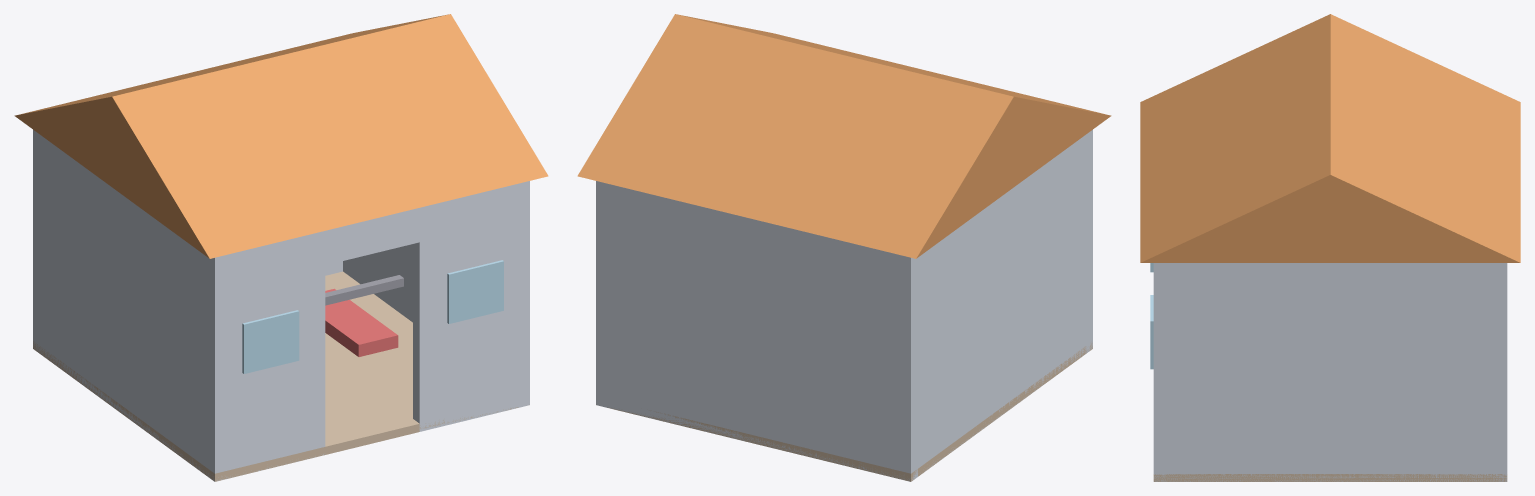
File: gimnasio.glb
3 views of the same model, side by side, from view 1: azimuth 30°, elevation 25°; view 2: azimuth 150°, elevation 25°; view 3: azimuth 270°, elevation 25° (orthographic). The views are drawn at different scales.
Parts seen in each view (by area): view 1: Techo, Pared_izq, Pared_del_a, Pared_del_b, Suelo, Pared_der, Pared_dintel, Ventana, Ventana.001, Banco, Pared_tras, Pesas; view 2: Techo, Pared_tras, Pared_izq, Suelo, Pared_der, Pared_del_a; view 3: Techo, Pared_der, Pared_tras, Suelo, Pared_del_b.
Boxes of the visible parts, left/top/right/bottom form: Techo: left=14, top=14, right=548, bottom=258; Pared_izq: left=33, top=130, right=226, bottom=481; Pared_del_a: left=208, top=231, right=325, bottom=480; Pared_del_b: left=413, top=181, right=529, bottom=431; Suelo: left=33, top=271, right=517, bottom=481; Pared_der: left=343, top=181, right=529, bottom=407; Pared_dintel: left=325, top=208, right=419, bottom=265; Ventana: left=242, top=310, right=299, bottom=373; Ventana.001: left=447, top=260, right=503, bottom=323; Banco: left=325, top=288, right=398, bottom=356; Pared_tras: left=33, top=130, right=342, bottom=348; Pesas: left=325, top=275, right=403, bottom=305; Techo: left=577, top=14, right=1111, bottom=258; Pared_tras: left=596, top=181, right=917, bottom=481; Pared_izq: left=899, top=130, right=1092, bottom=479; Suelo: left=608, top=343, right=1092, bottom=481; Pared_der: left=596, top=181, right=607, bottom=407; Pared_del_a: left=1086, top=130, right=1092, bottom=353; Techo: left=1140, top=14, right=1520, bottom=262; Pared_der: left=1153, top=263, right=1507, bottom=481; Pared_tras: left=1494, top=263, right=1507, bottom=481; Suelo: left=1153, top=474, right=1507, bottom=481; Pared_del_b: left=1153, top=263, right=1166, bottom=481.
Size of the model in its own units: 4.3 by 3.9 by 4.3.
